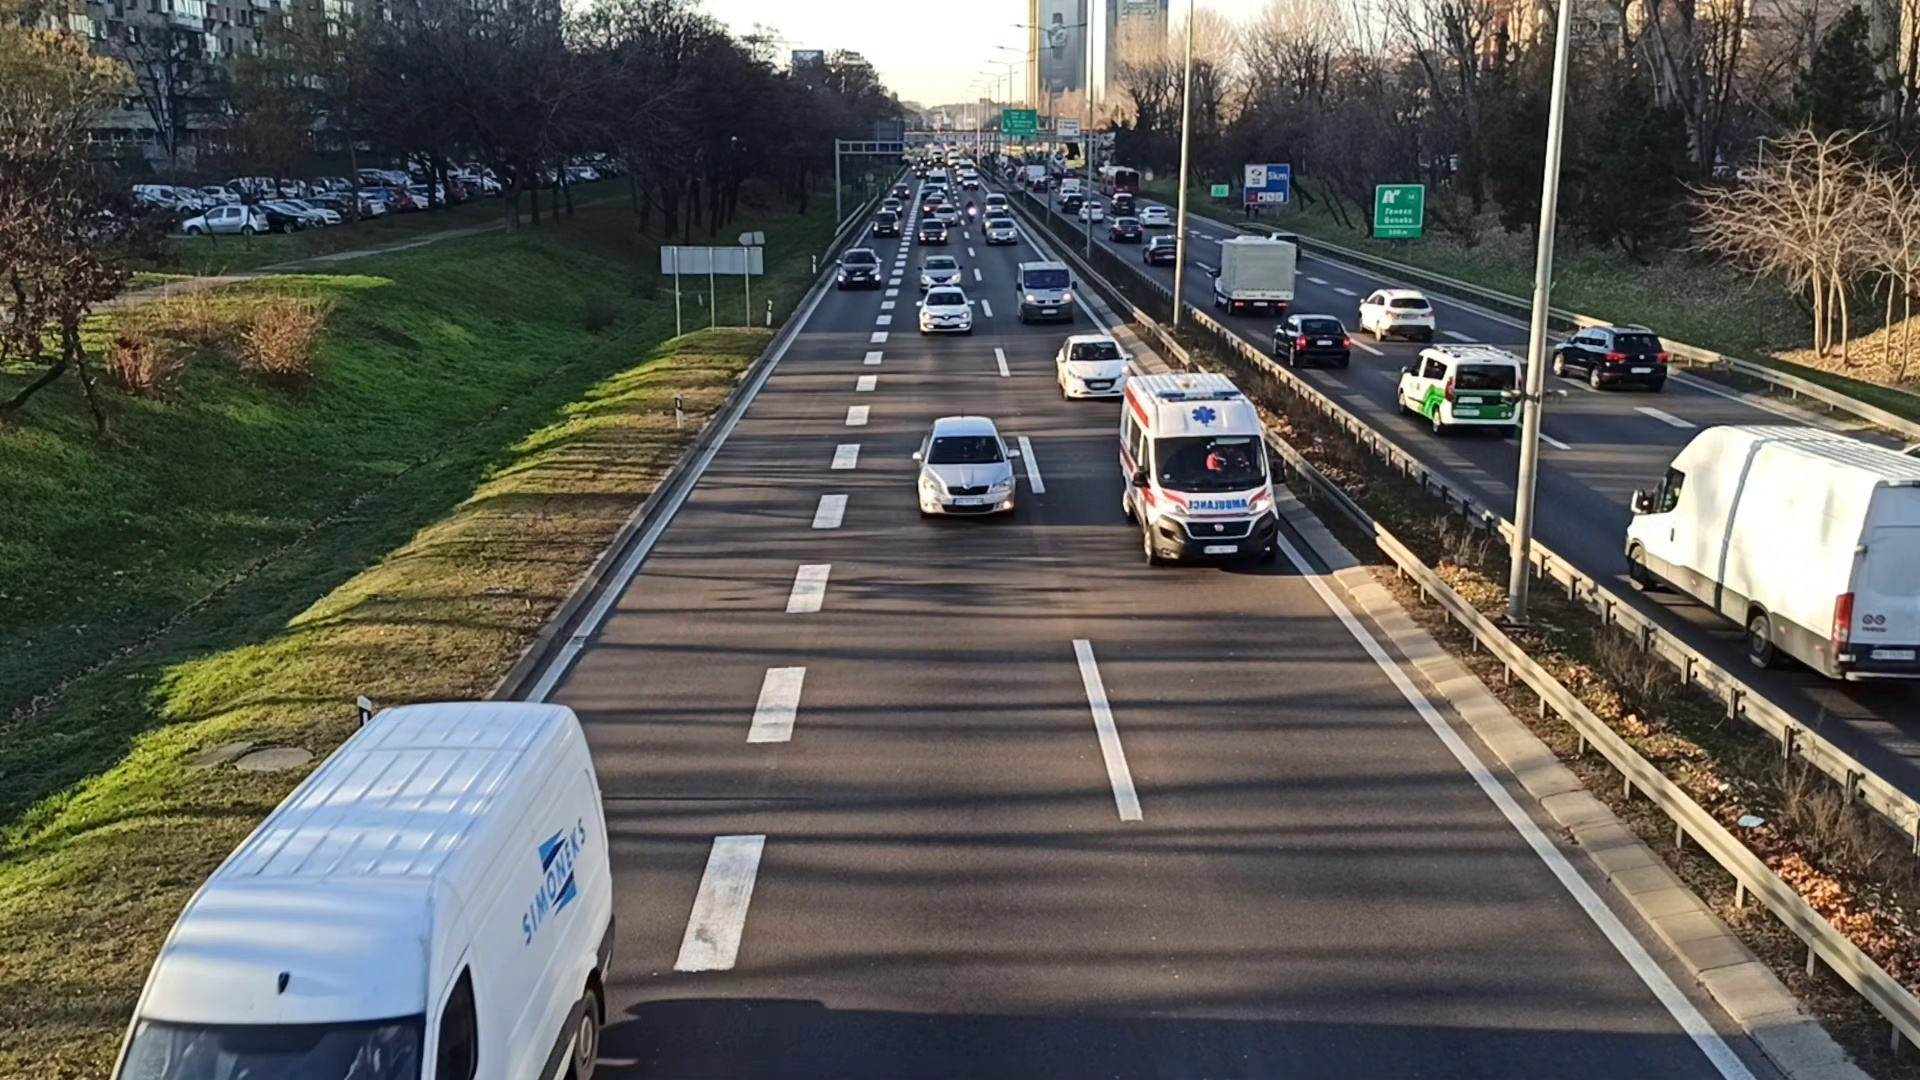car: (916, 414, 1015, 517), (1553, 323, 1671, 389), (1054, 328, 1127, 397), (1273, 313, 1352, 364), (1360, 289, 1435, 342), (916, 287, 973, 332)
van: (112, 700, 626, 1080), (1625, 418, 1920, 694), (1120, 373, 1280, 574), (1398, 338, 1523, 434), (1015, 258, 1071, 324)
